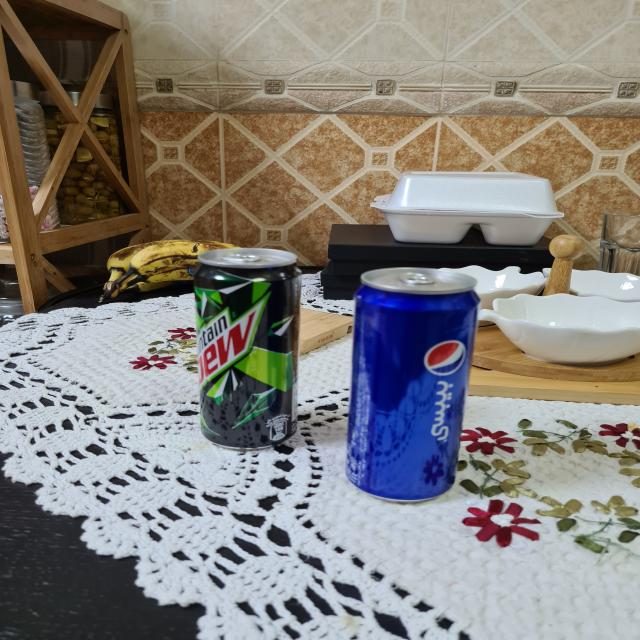non-organic waste: (344, 265, 483, 505), (195, 243, 312, 450)
